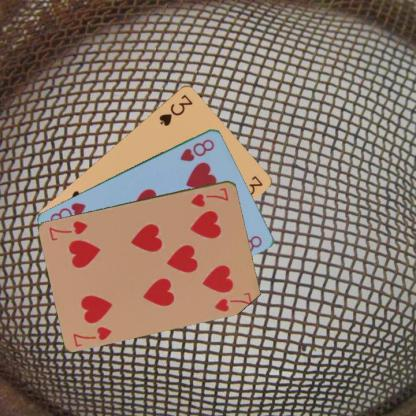3s: (157, 91, 194, 127)
7h: (70, 324, 113, 347), (188, 185, 230, 208)
8h: (178, 136, 216, 163)
